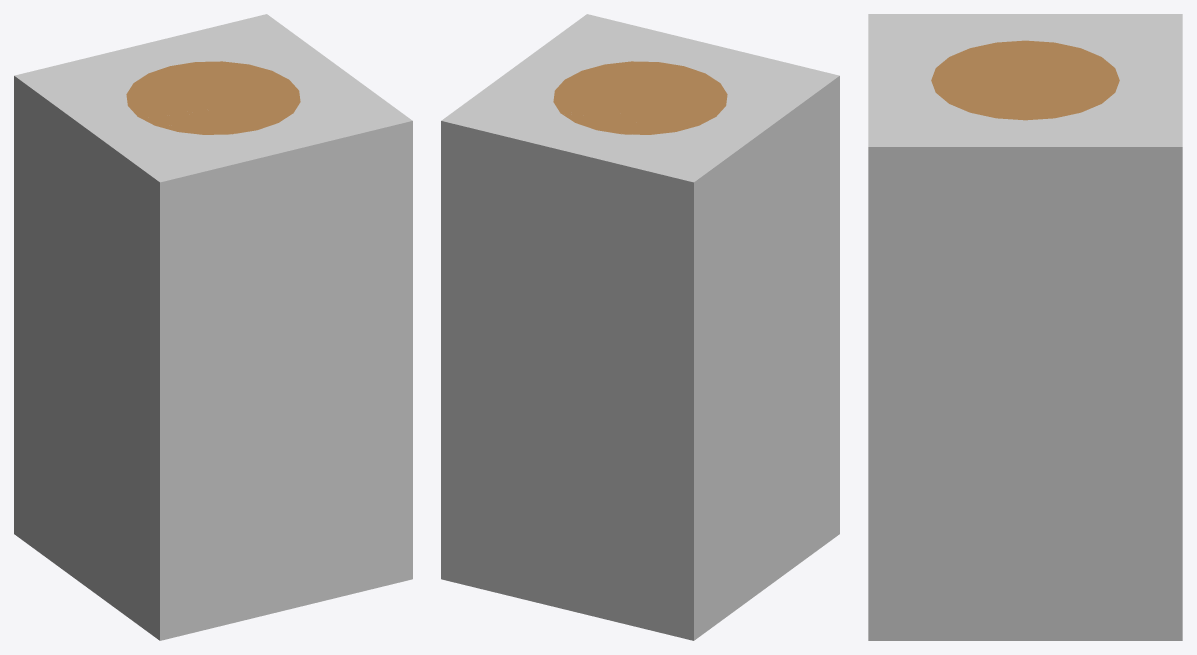
Rendered from pendant-light_retail.glb.
The picture shows the model from 3 angles, left to right: view 1: azimuth 30°, elevation 25°; view 2: azimuth 150°, elevation 25°; view 3: azimuth 270°, elevation 25°; orthographic projection. The views are drawn at different scales.
Parts seen in each view (by area): view 1: COL_pendant-light, MESH_CeilingCanopy; view 2: COL_pendant-light, MESH_CeilingCanopy; view 3: COL_pendant-light, MESH_CeilingCanopy.
Boxes of the visible parts, <box> form: COL_pendant-light: <box>14,14,412,640</box>; MESH_CeilingCanopy: <box>126,61,300,134</box>; COL_pendant-light: <box>441,14,839,640</box>; MESH_CeilingCanopy: <box>553,61,727,134</box>; COL_pendant-light: <box>868,14,1182,640</box>; MESH_CeilingCanopy: <box>931,40,1119,120</box>.
Size of the model in its own units: 0.45 by 0.78 by 0.45.
